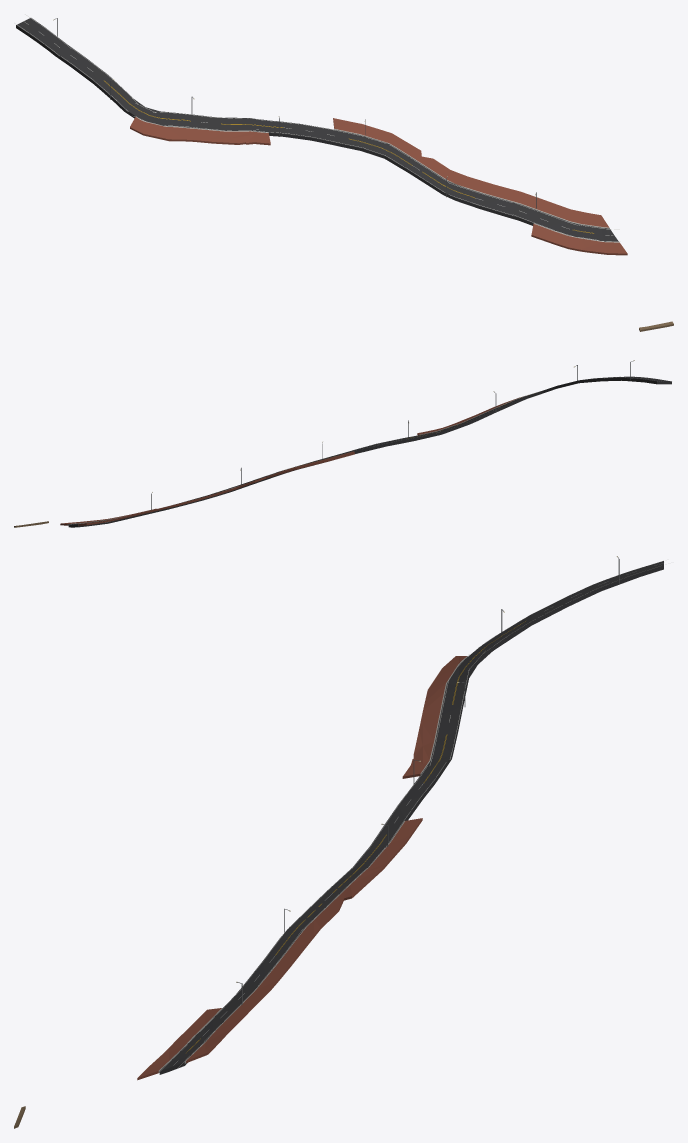
The picture shows the model from 3 angles, top to bottom: view 1: azimuth 30°, elevation 25°; view 2: azimuth 210°, elevation 25°; view 3: azimuth 270°, elevation 25°; orthographic projection. The views are drawn at different scales.
Size of the model in its own units: 180 by 96.45 by 182.
